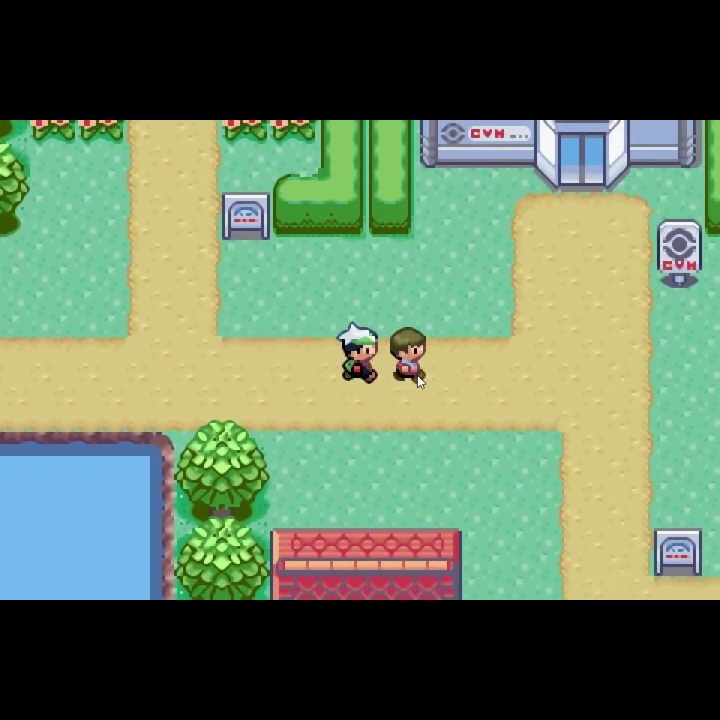gym: (418, 121, 702, 195)
npc: (334, 321, 382, 390), (387, 325, 428, 390)
wall: (173, 418, 270, 523), (175, 516, 271, 599), (1, 142, 31, 240)
